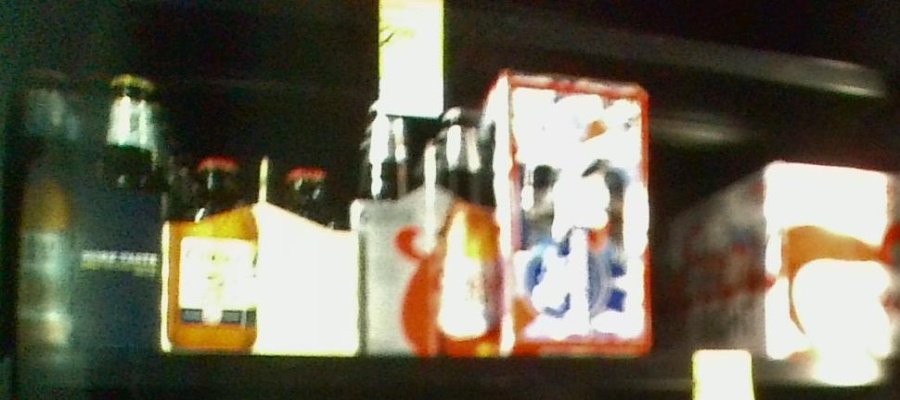bottle: (1, 62, 166, 354), (673, 159, 898, 353), (498, 70, 649, 356), (167, 152, 361, 356), (359, 98, 497, 356)
